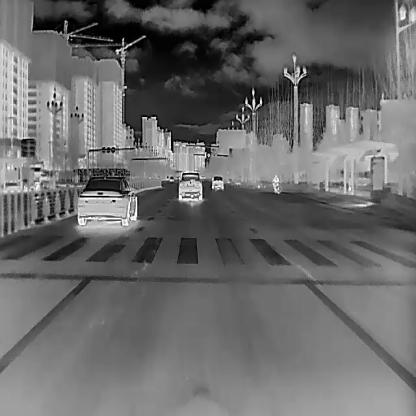car: (76, 175, 138, 226), (176, 172, 203, 200), (271, 173, 281, 193), (211, 174, 223, 189), (168, 175, 173, 182)
